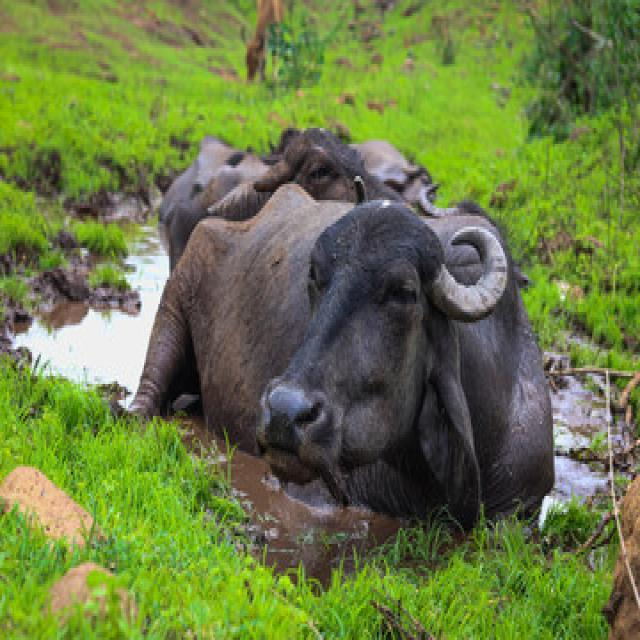Buffalo: (127, 187, 559, 519)
